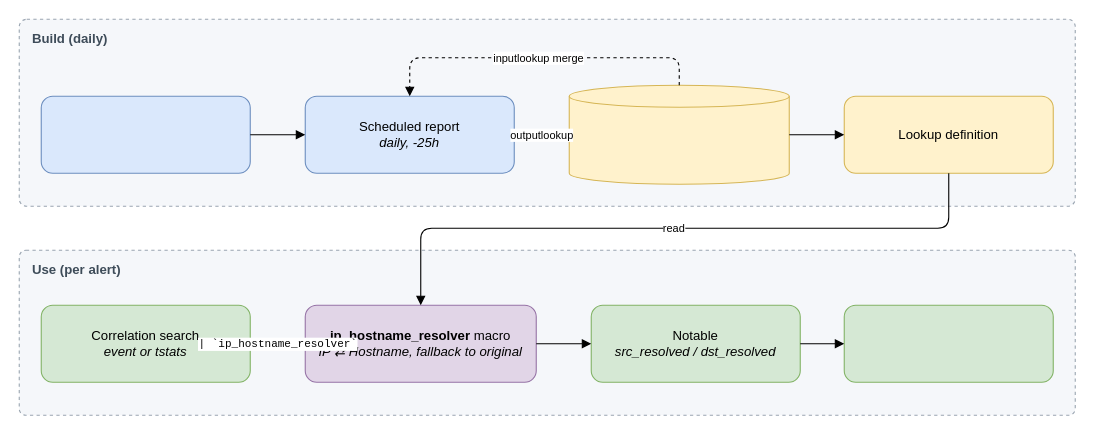
The diagram is 1095 pixels wide and 435 high, and some of its shapes have lost their labels. Each missing label, with the centre of its shape:
Authentication datamodel machine accounts (HOST$): point (145, 134)
Incident Review title + columns: point (948, 343)
ip_hostname_correlation_lookup IpAddress, Hostname: point (678, 134)
